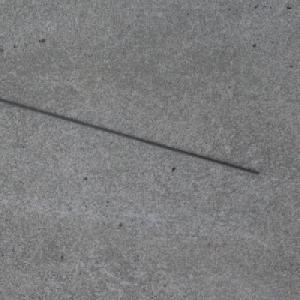LuggagePart: (0, 98, 261, 175)
